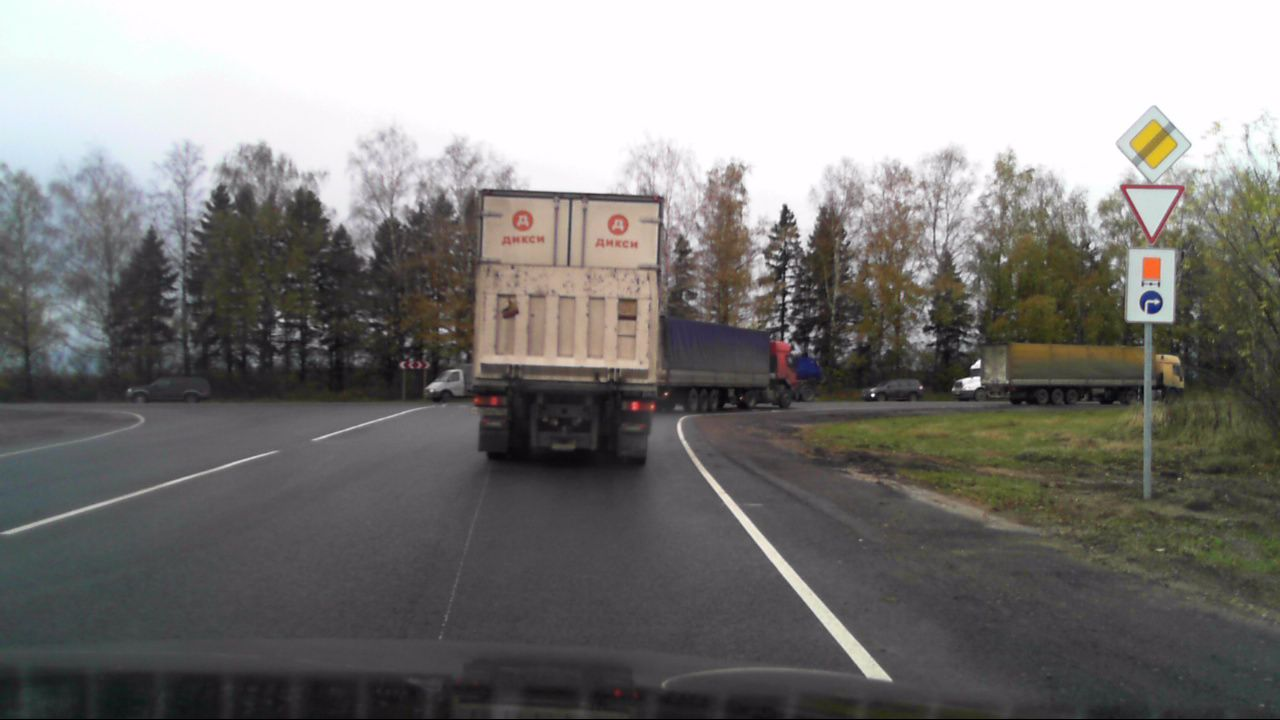main road: (1115, 104, 1191, 182)
